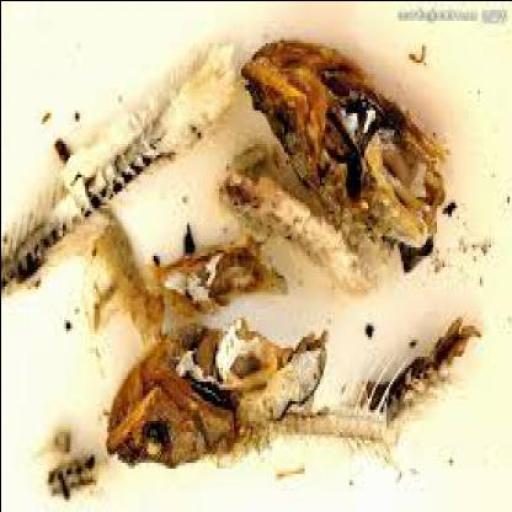biodegradable: (2, 42, 242, 303), (244, 42, 453, 274), (104, 325, 329, 470), (222, 157, 380, 305), (281, 350, 417, 478), (356, 319, 478, 459), (84, 218, 170, 346), (158, 246, 289, 319), (35, 430, 97, 510)
